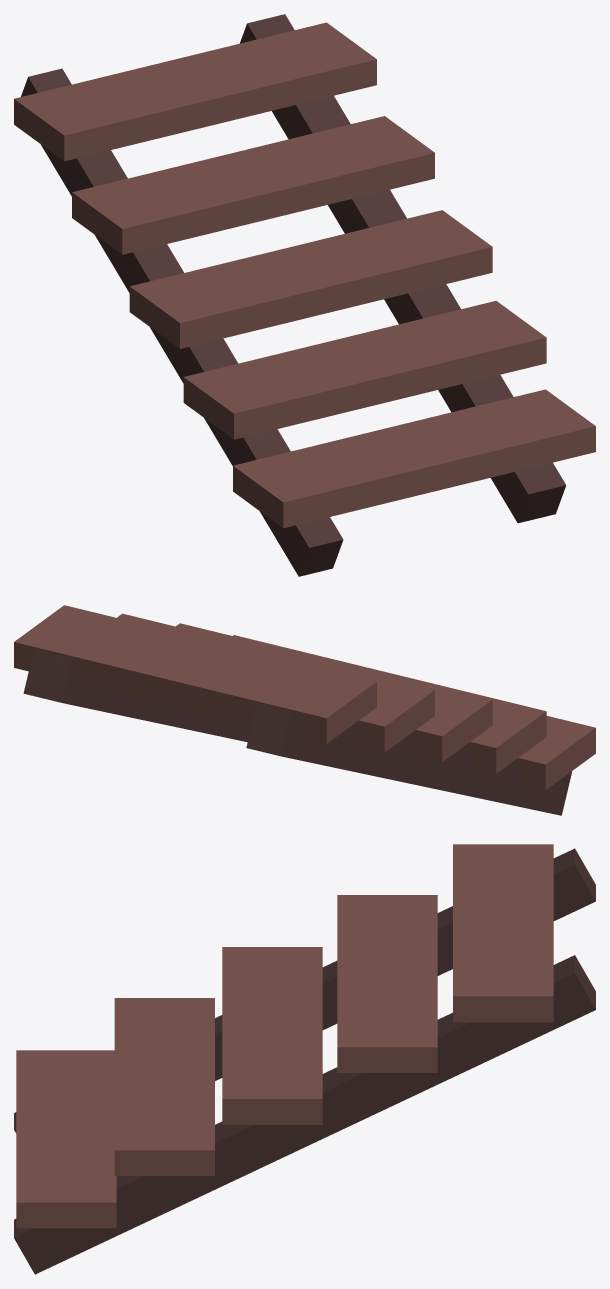
Rendered from LightRoseWoodStepsMediumSteps1.fbx.
The picture shows the model from 3 angles, top to bottom: view 1: azimuth 30°, elevation 25°; view 2: azimuth 150°, elevation 25°; view 3: azimuth 270°, elevation 25°; orthographic projection.
Visible parts, largest first — view 1: LightRoseWoodStepsMediumSteps1; view 2: LightRoseWoodStepsMediumSteps1; view 3: LightRoseWoodStepsMediumSteps1.
Boxes of the visible parts, bbox=[...] form: LightRoseWoodStepsMediumSteps1: bbox=[14, 14, 595, 576]; LightRoseWoodStepsMediumSteps1: bbox=[14, 605, 595, 815]; LightRoseWoodStepsMediumSteps1: bbox=[14, 844, 595, 1274].
Size of the model in its own units: 243 by 224 by 393.
